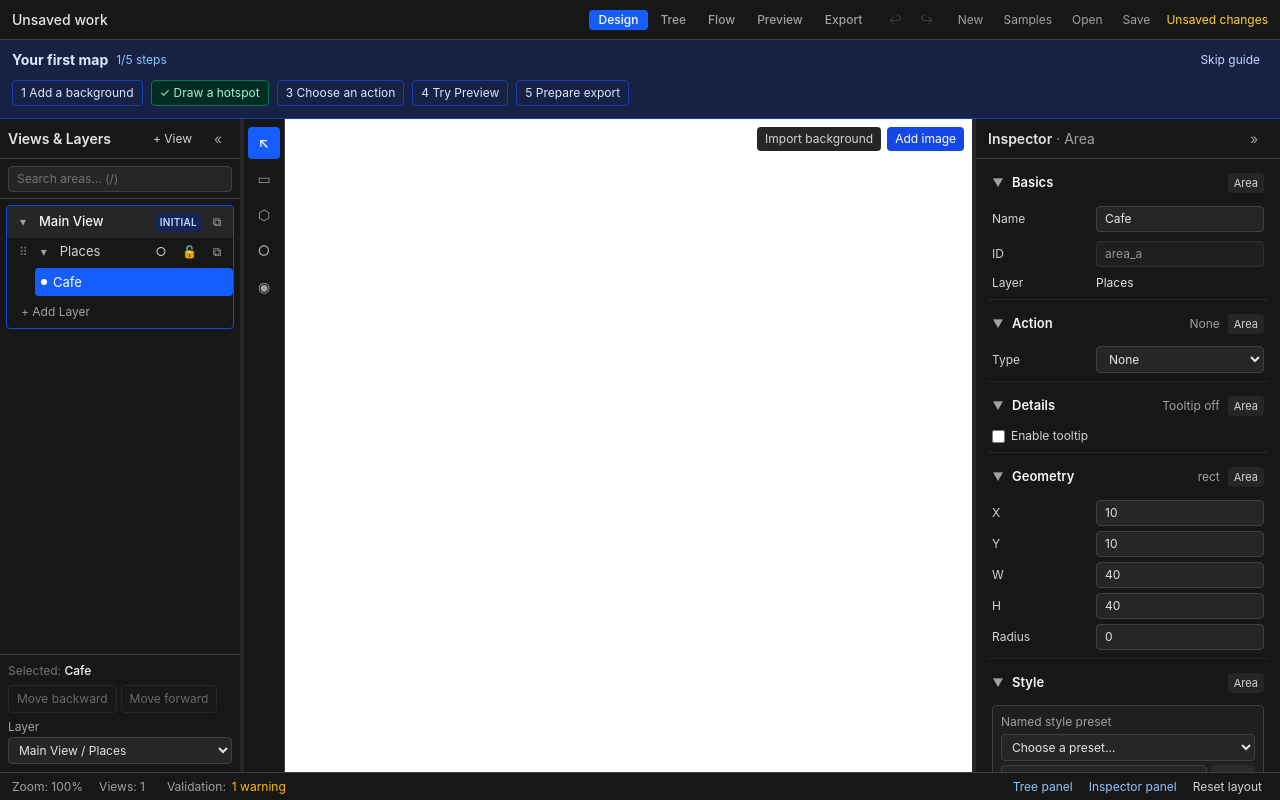
it: modal dialogs › replace: Escape cancels without touching unsaved work
Click the button "New".
click(971, 20)  # box [950,10,991,30]
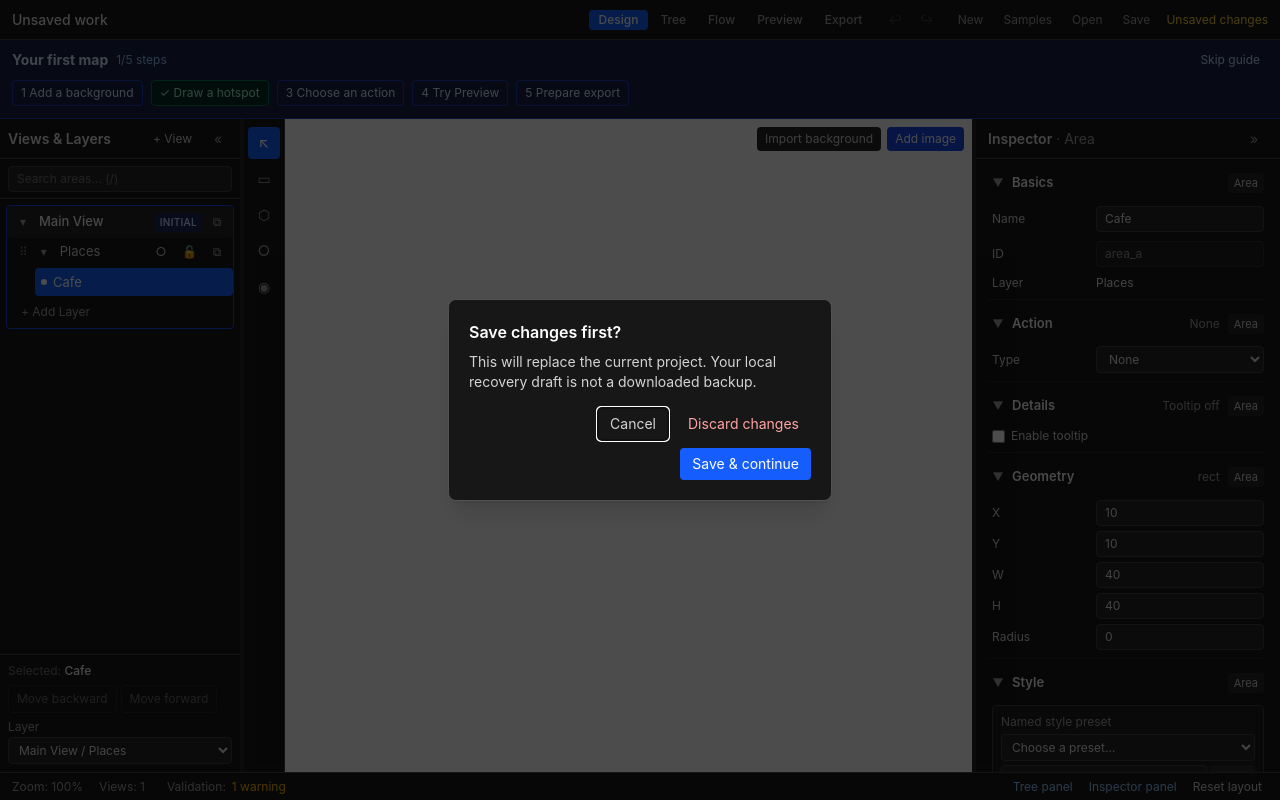
Press Escape
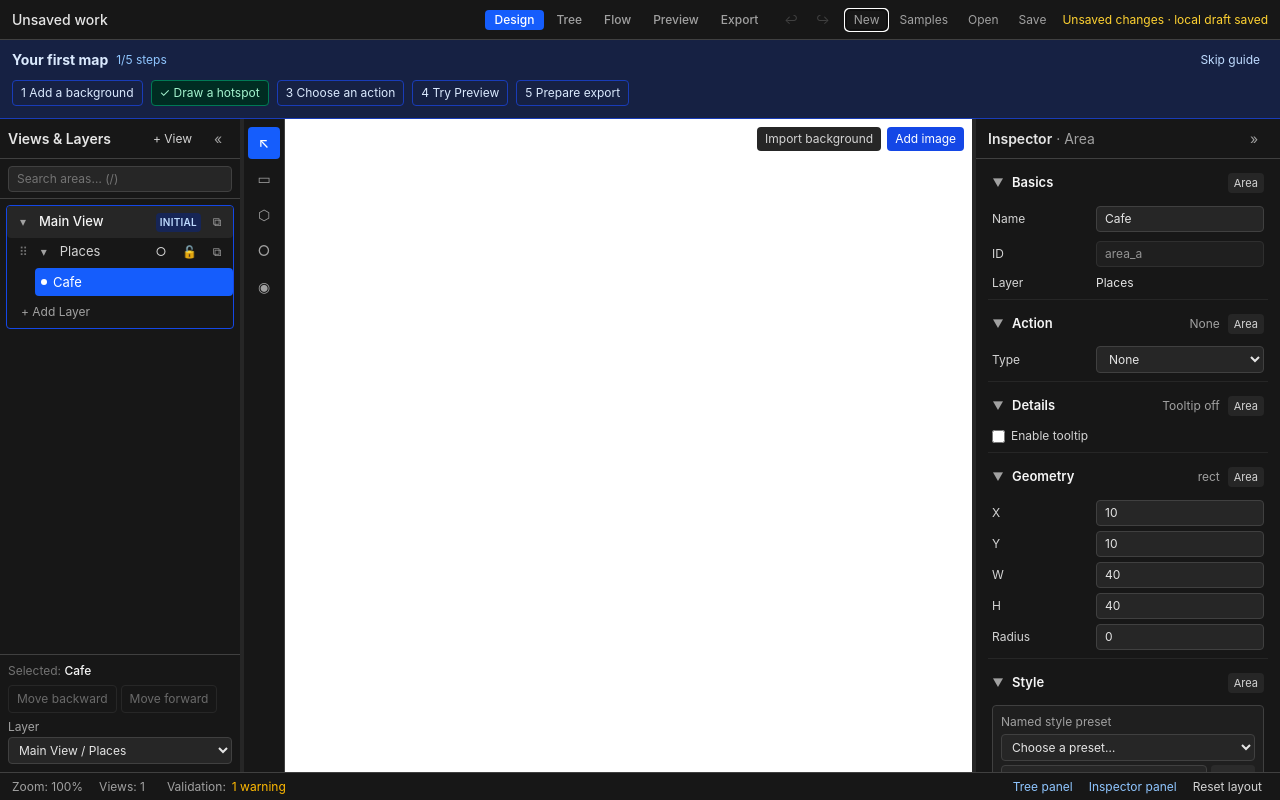
Expected: the button "Unsaved work" is shown, [12,10,108,30]
Result: the dialog is gone
